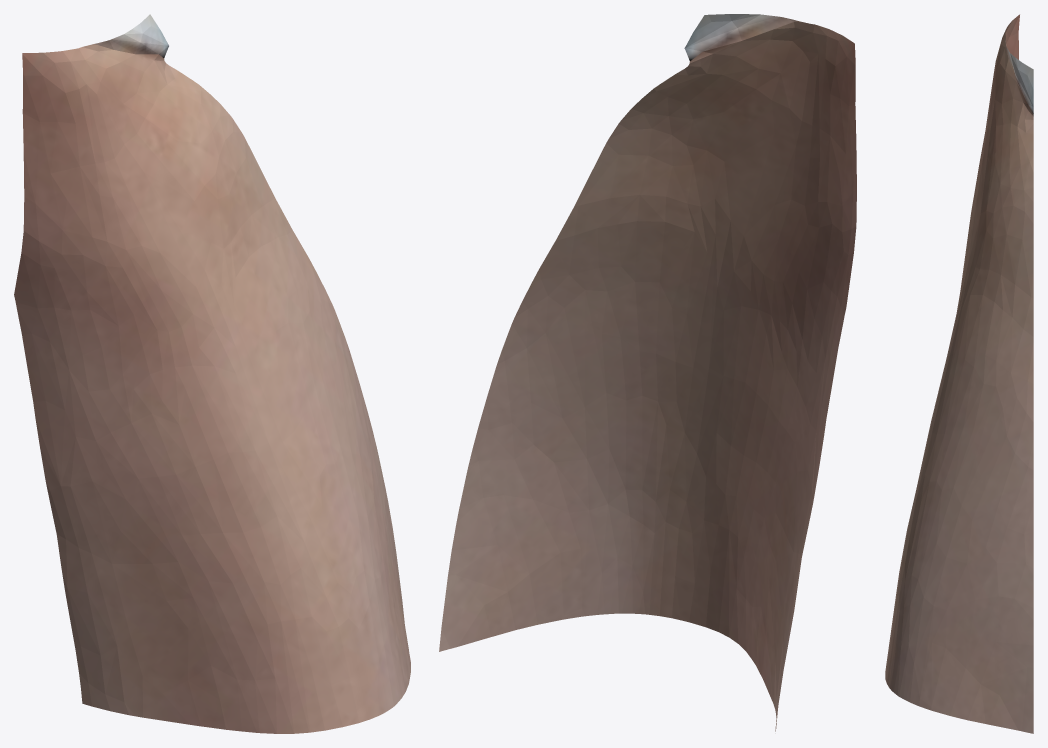
The picture shows the model from 3 angles, left to right: view 1: azimuth 30°, elevation 25°; view 2: azimuth 150°, elevation 25°; view 3: azimuth 270°, elevation 25°; orthographic projection. The views are drawn at different scales.
Visible parts, largest first — view 1: 091_W_Aya_100K_01; view 2: 091_W_Aya_100K_01; view 3: 091_W_Aya_100K_01.
Part boxes in pixels (x1,y1,x2,y2): 091_W_Aya_100K_01: (14,14,410,733); 091_W_Aya_100K_01: (439,14,856,731); 091_W_Aya_100K_01: (885,14,1033,733).
Bounding box in the file's own units: 104 × 171 × 41.16.
Materials: 1 (1 with a texture image).
